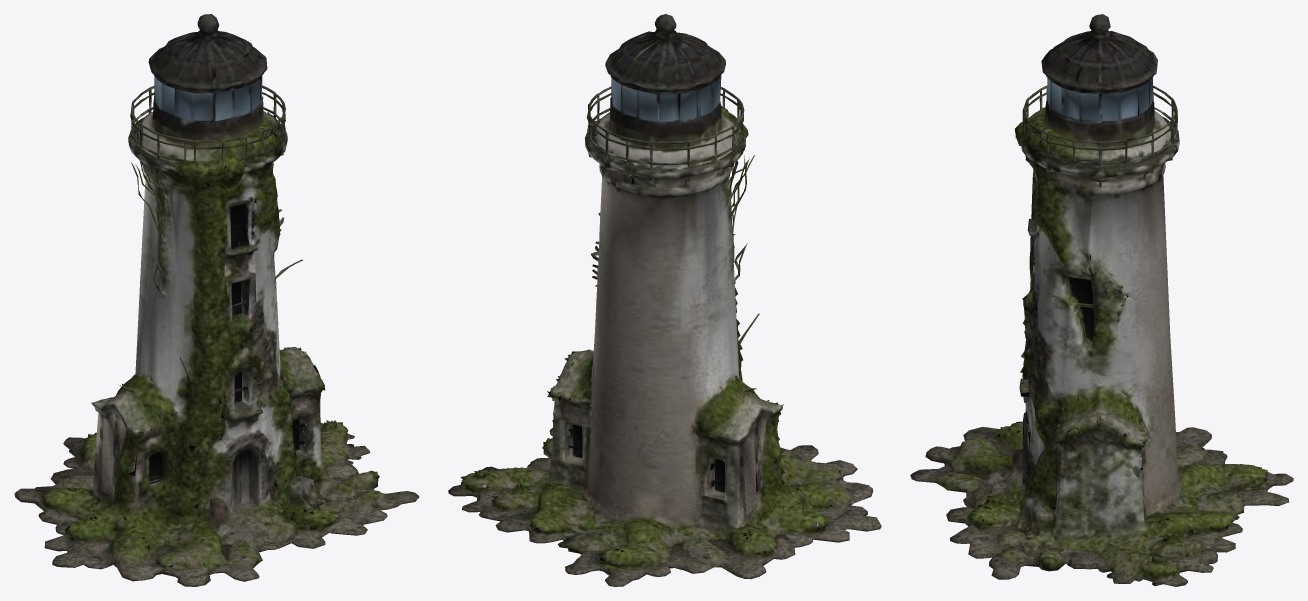
Rendered from lighthouse.glb.
3 renders of one model, left to right at view 1: azimuth 30°, elevation 25°; view 2: azimuth 150°, elevation 25°; view 3: azimuth 270°, elevation 25°, orthographic.
Visible parts, largest first — view 1: lo; view 2: lo; view 3: lo.
Boxes of the visible parts, bbox=[...] form: lo: bbox=[14, 14, 419, 586]; lo: bbox=[448, 14, 881, 586]; lo: bbox=[910, 14, 1293, 586].
Bounding box in the file's own units: 0.7604 × 0.9799 × 0.7.
Materials: 1 (1 with a texture image).
